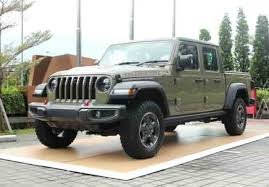mobil: (32, 36, 252, 156)
